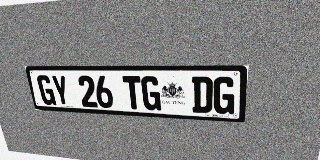2: (77, 75, 98, 107)
6: (93, 76, 114, 108)
D: (192, 76, 213, 113)
G: (213, 77, 236, 114), (141, 76, 161, 111), (36, 75, 56, 105)
T: (122, 76, 143, 110)
Y: (50, 75, 71, 106)
